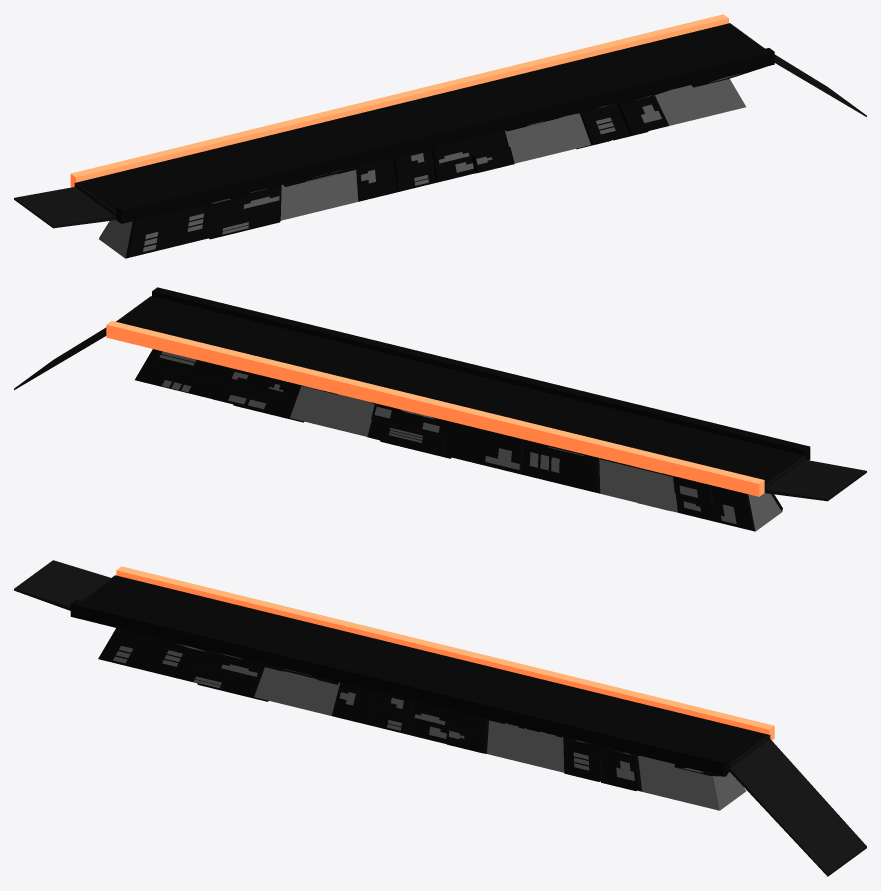
File: Passerelle_02.fbx
The picture shows the model from 3 angles, top to bottom: view 1: azimuth 30°, elevation 25°; view 2: azimuth 150°, elevation 25°; view 3: azimuth 330°, elevation 25°; orthographic projection.
Visible parts, largest first — view 1: Box037; view 2: Box037; view 3: Box037.
Part boxes in pixels (bbox=[...]): Box037: bbox=[14, 14, 866, 258]; Box037: bbox=[14, 287, 866, 531]; Box037: bbox=[14, 560, 866, 876].
Bounding box in the file's own units: 3025 × 334 × 329.
